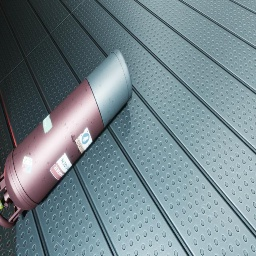NitrogenTank ,: (0, 49, 132, 228)
